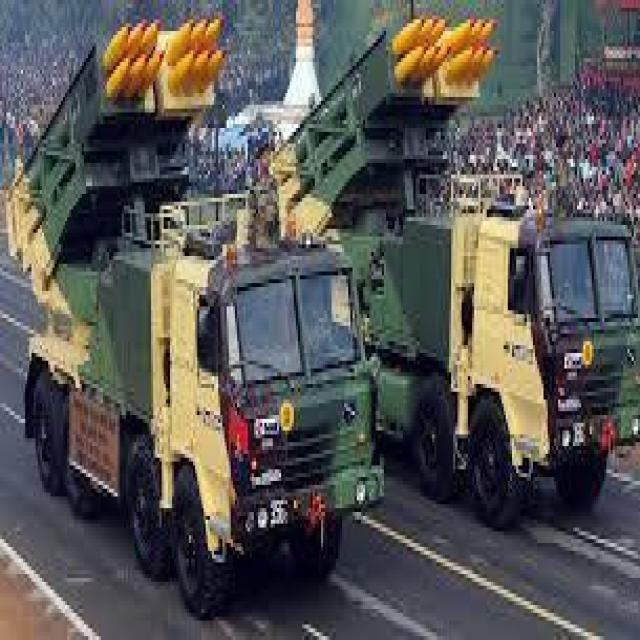Tanks: (3, 23, 377, 601), (381, 9, 635, 526)
